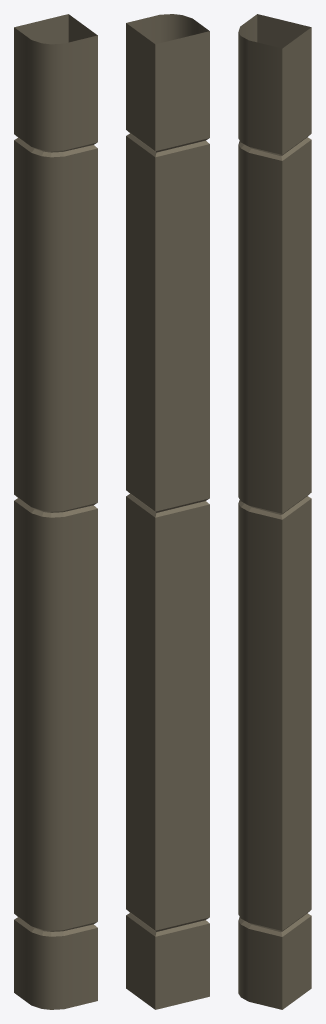
The model's file is SM_pillar_03.fbx.
3 renders of one model, left to right at view 1: azimuth 30°, elevation 25°; view 2: azimuth 210°, elevation 25°; view 3: azimuth 330°, elevation 25°, orthographic.
Visible parts, largest first — view 1: pillar_03; view 2: pillar_03; view 3: pillar_03.
Part boxes in pixels (left/top/right/bottom): pillar_03: left=14, top=14, right=97, bottom=1009; pillar_03: left=126, top=14, right=209, bottom=1009; pillar_03: left=238, top=14, right=311, bottom=1009.
Bounding box in the file's own units: 11.89 × 201 × 11.07.
